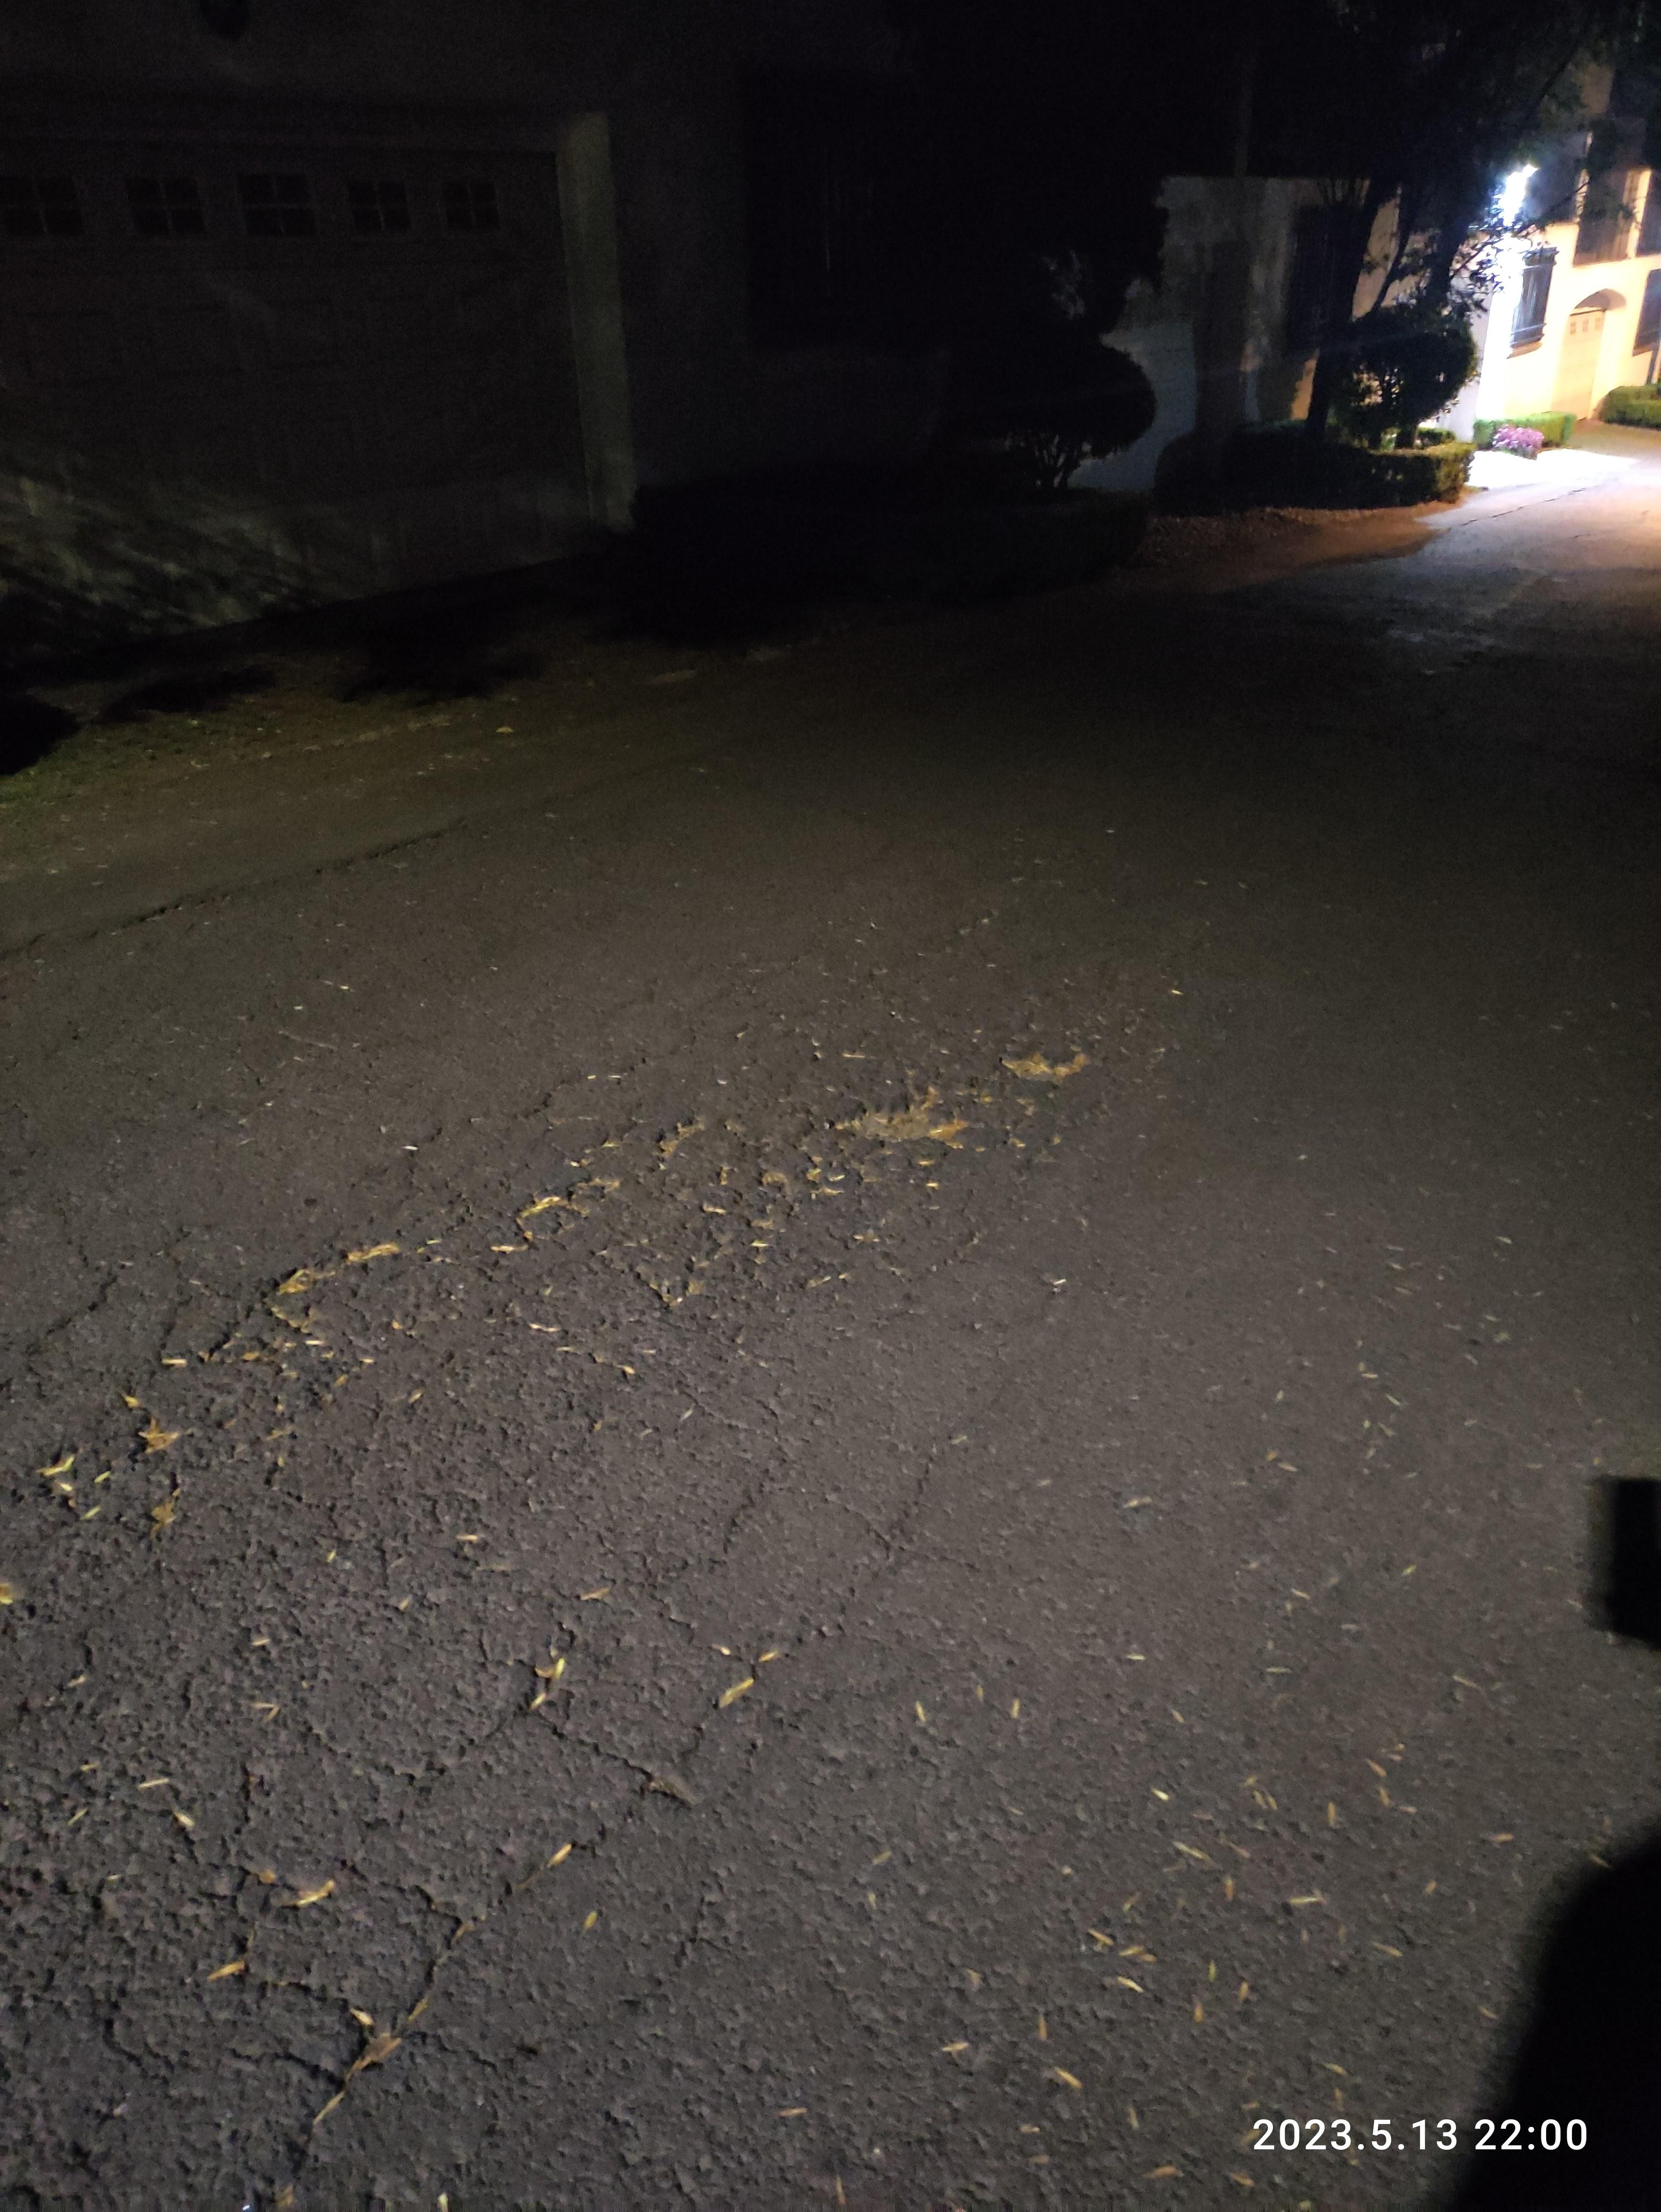alligator-crack: (0, 904, 1169, 2106)
